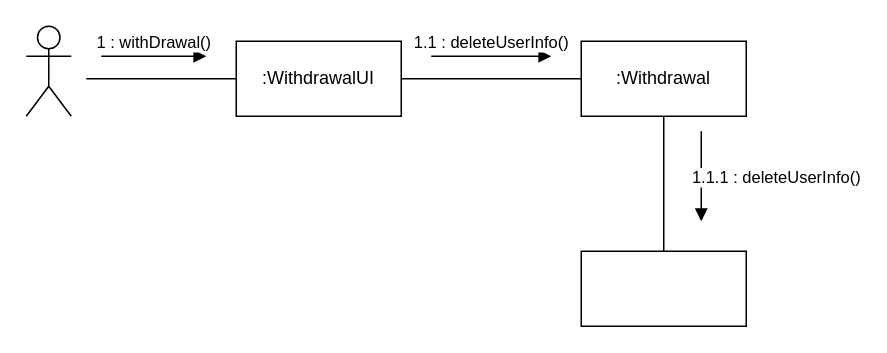
This 887x353 diagram has some shape labels left out. The shapes that lost their labels are listed below. From the top down, each one's centre as x and y in pixels, then its label:
At (x=48, y=70): "회원".
At (x=663, y=288): ":User".
